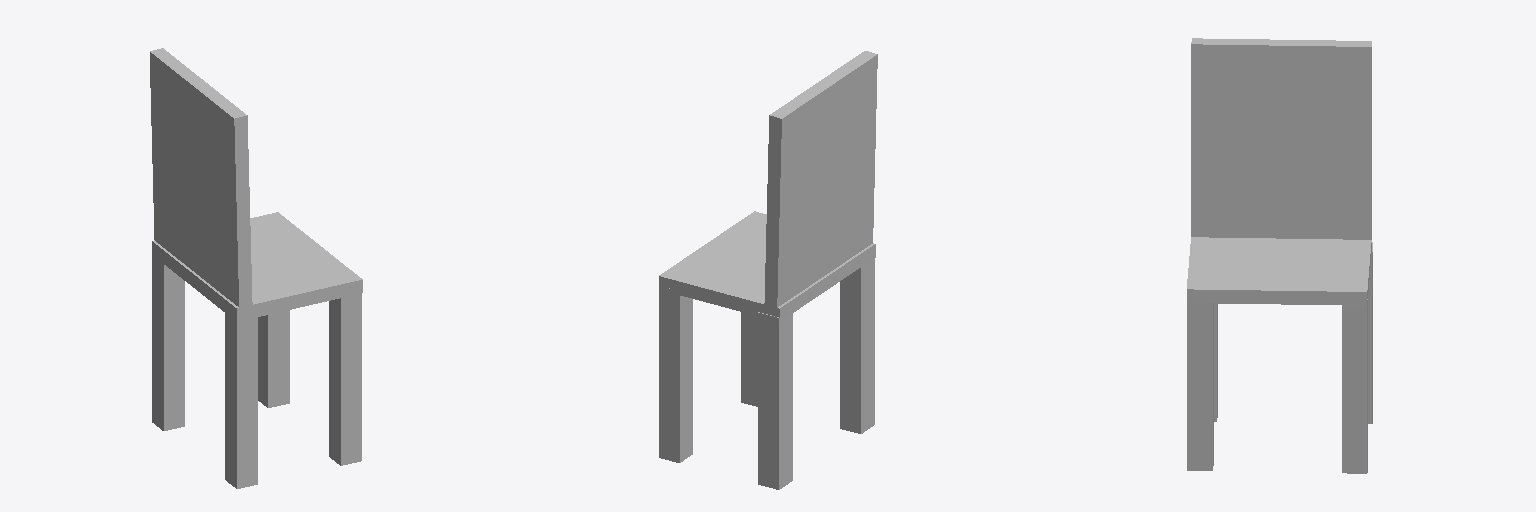
Rendered from chair2.obj.
The picture shows the model from 3 angles: view 1: azimuth 30°, elevation 25°; view 2: azimuth 150°, elevation 25°; view 3: azimuth 270°, elevation 25°; orthographic projection.
Visible parts, largest first — view 1: Cube.003_Cube.019; view 2: Cube.003_Cube.019; view 3: Cube.003_Cube.019.
Boxes of the visible parts, box(x1,y1,x2,y2) form: Cube.003_Cube.019: box(150, 48, 362, 488); Cube.003_Cube.019: box(659, 51, 877, 489); Cube.003_Cube.019: box(1187, 38, 1372, 473).
Bounding box in the file's own units: 0.4985 × 1.35 × 0.6127.